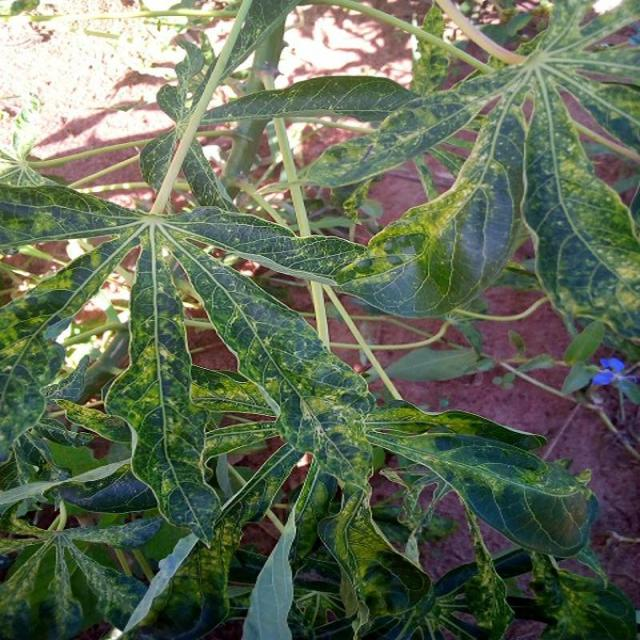cassava leaf: (0, 1, 638, 637), (102, 227, 222, 547)
